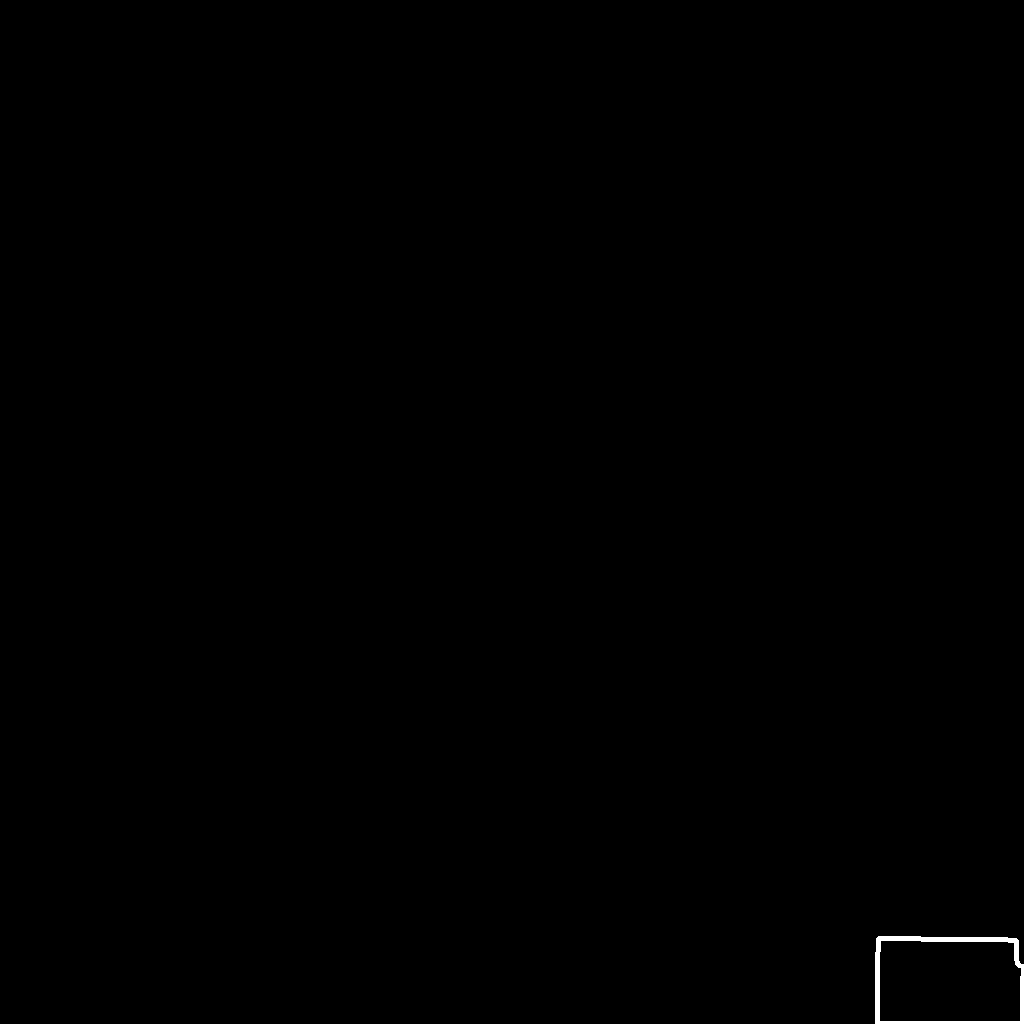building: (877, 938, 1024, 1024)
